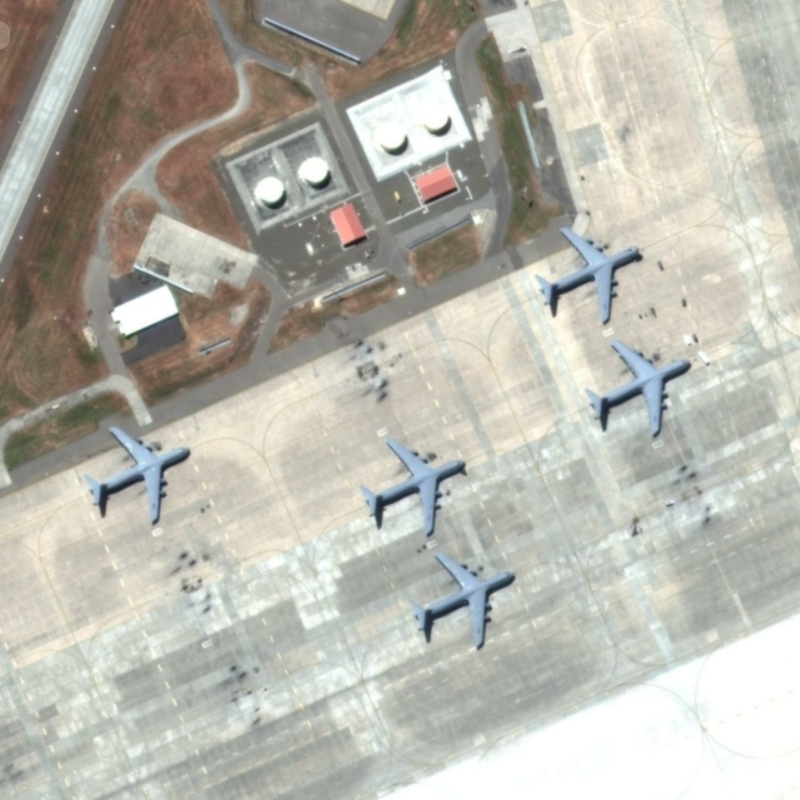A4: (532, 224, 649, 333), (77, 420, 193, 529), (576, 336, 695, 441), (355, 436, 471, 541), (400, 551, 519, 653)
